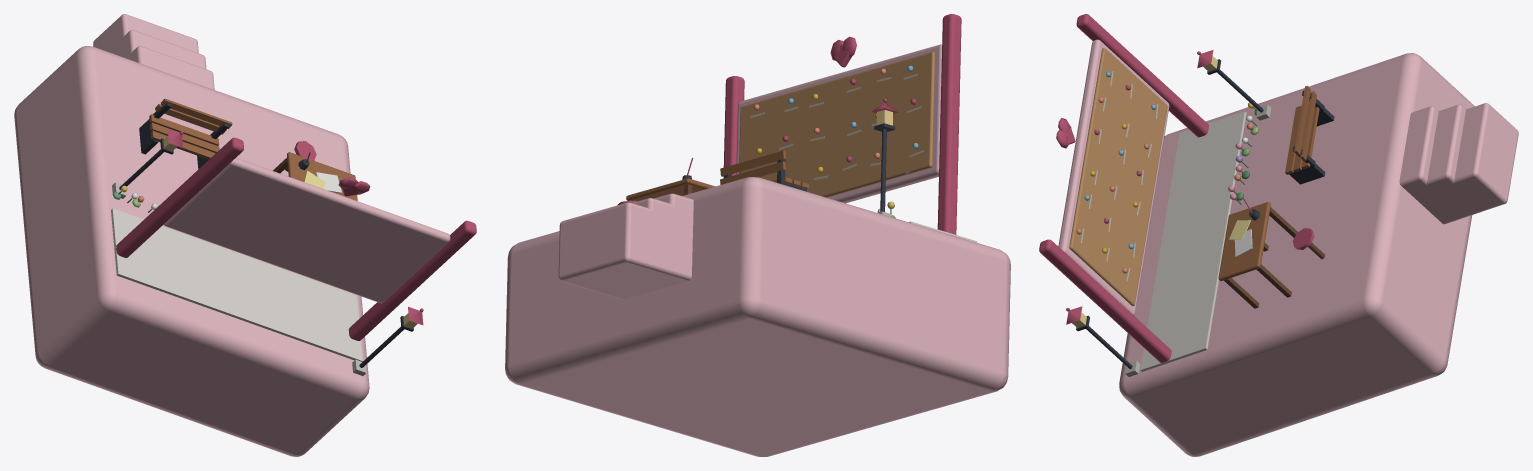
File: station-guestbook.glb
The picture shows the model from 3 angles, left to right: view 1: azimuth 30°, elevation 25°; view 2: azimuth 150°, elevation 25°; view 3: azimuth 270°, elevation 25°; orthographic projection. The views are drawn at different scales.
Visible parts, largest first — view 1: guestbook; view 2: guestbook; view 3: guestbook.
Part boxes in pixels (x1,y1,x2,y2): guestbook: (14, 14, 476, 456); guestbook: (505, 14, 1010, 456); guestbook: (1039, 14, 1518, 456).
Size of the model in its own units: 3.18 by 3.11 by 3.51.
